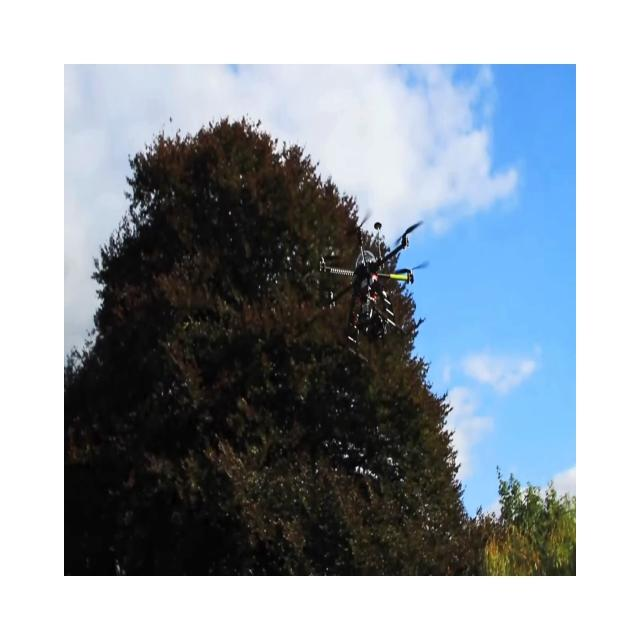drone: (318, 212, 428, 356)
